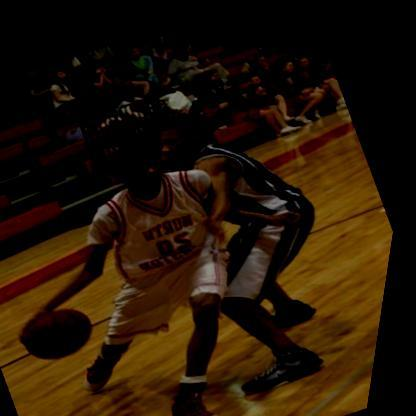basketball: (21, 283, 115, 372)
